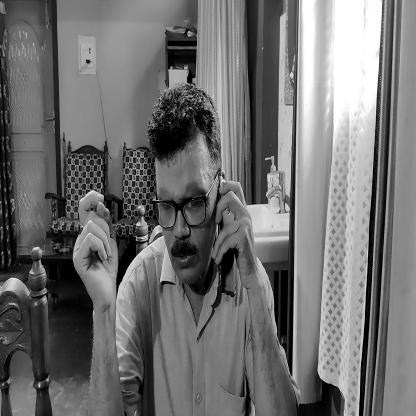Distracted: (145, 94, 216, 288)
